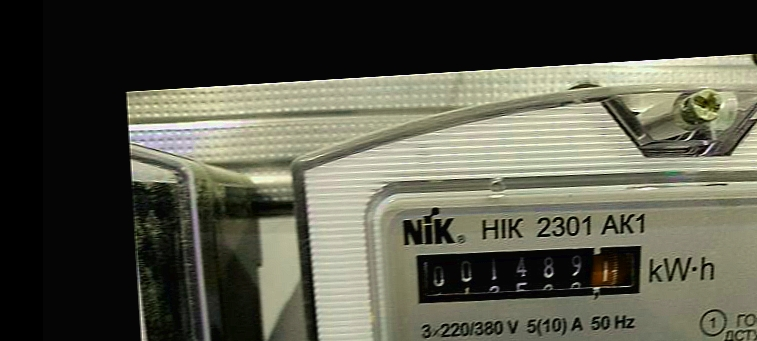0: (456, 253, 473, 279), (429, 258, 445, 284)
1: (484, 250, 500, 280), (597, 249, 610, 280)
4: (512, 249, 529, 276)
8: (537, 248, 556, 276)
9: (567, 248, 583, 274)
screen: (399, 226, 659, 317)
